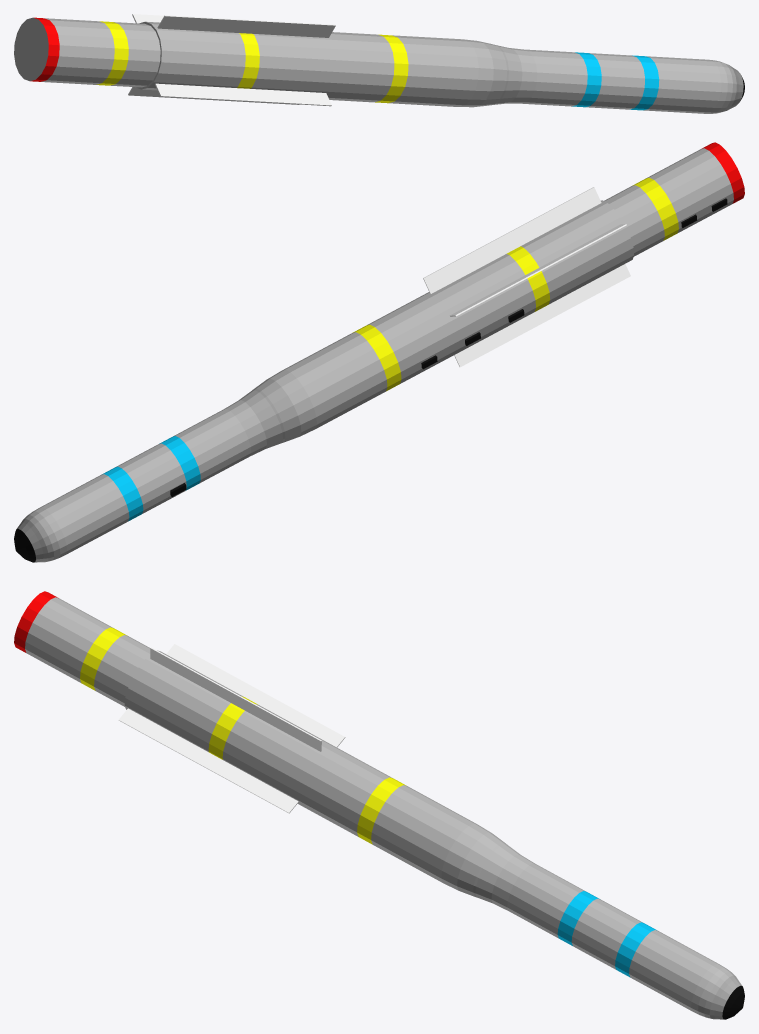
File: Missile.obj
3 renders of one model, top to bottom at view 1: azimuth 30°, elevation 25°; view 2: azimuth 210°, elevation 25°; view 3: azimuth 330°, elevation 25°, orthographic.
Parts seen in each view (by area): view 1: Cylinder002, Box011; view 2: Cylinder002, Box011; view 3: Cylinder002, Box011.
Boxes of the visible parts, x1=… form: Cylinder002: x1=14, y1=17, x2=744, y2=113; Box011: x1=128, y1=14, x2=335, y2=106; Cylinder002: x1=14, y1=142, x2=744, y2=562; Box011: x1=423, y1=187, x2=630, y2=367; Cylinder002: x1=14, y1=591, x2=744, y2=1019; Box011: x1=118, y1=644, x2=345, y2=813.
Bounding box in the file's own units: 184435 × 62330 × 19270.
